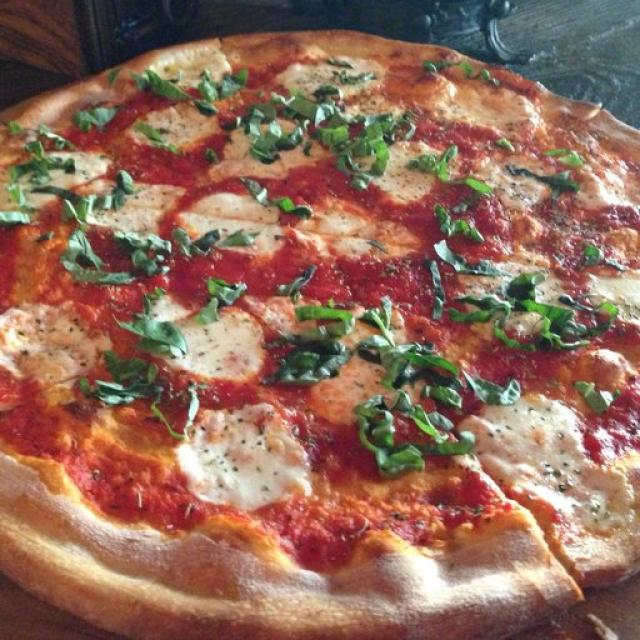Basil: (423, 236, 587, 340), (347, 398, 466, 476), (58, 220, 177, 288), (238, 103, 382, 159), (367, 324, 462, 398), (266, 324, 361, 390), (74, 354, 164, 416), (36, 172, 134, 222), (132, 75, 245, 106), (417, 148, 471, 182)
Cheese: (165, 398, 322, 522), (458, 391, 597, 491), (0, 300, 109, 391), (154, 302, 262, 381), (192, 191, 284, 254)
Pizza: (0, 30, 640, 640)
